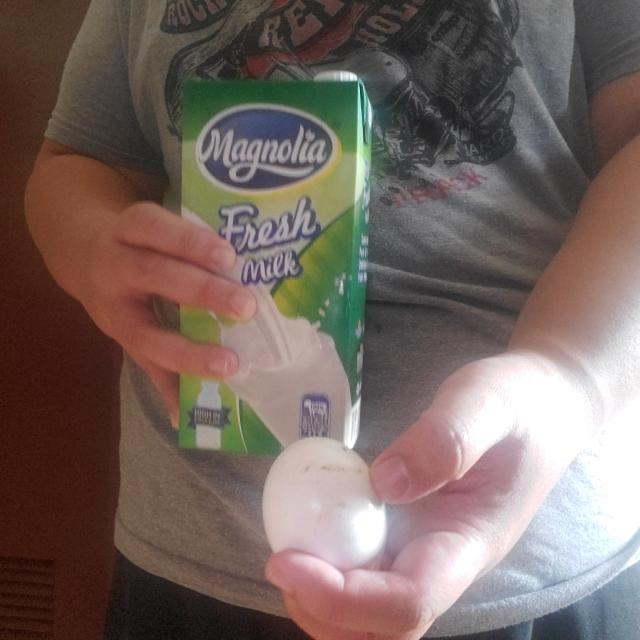egg: (265, 439, 389, 575)
milk: (174, 70, 376, 455)
